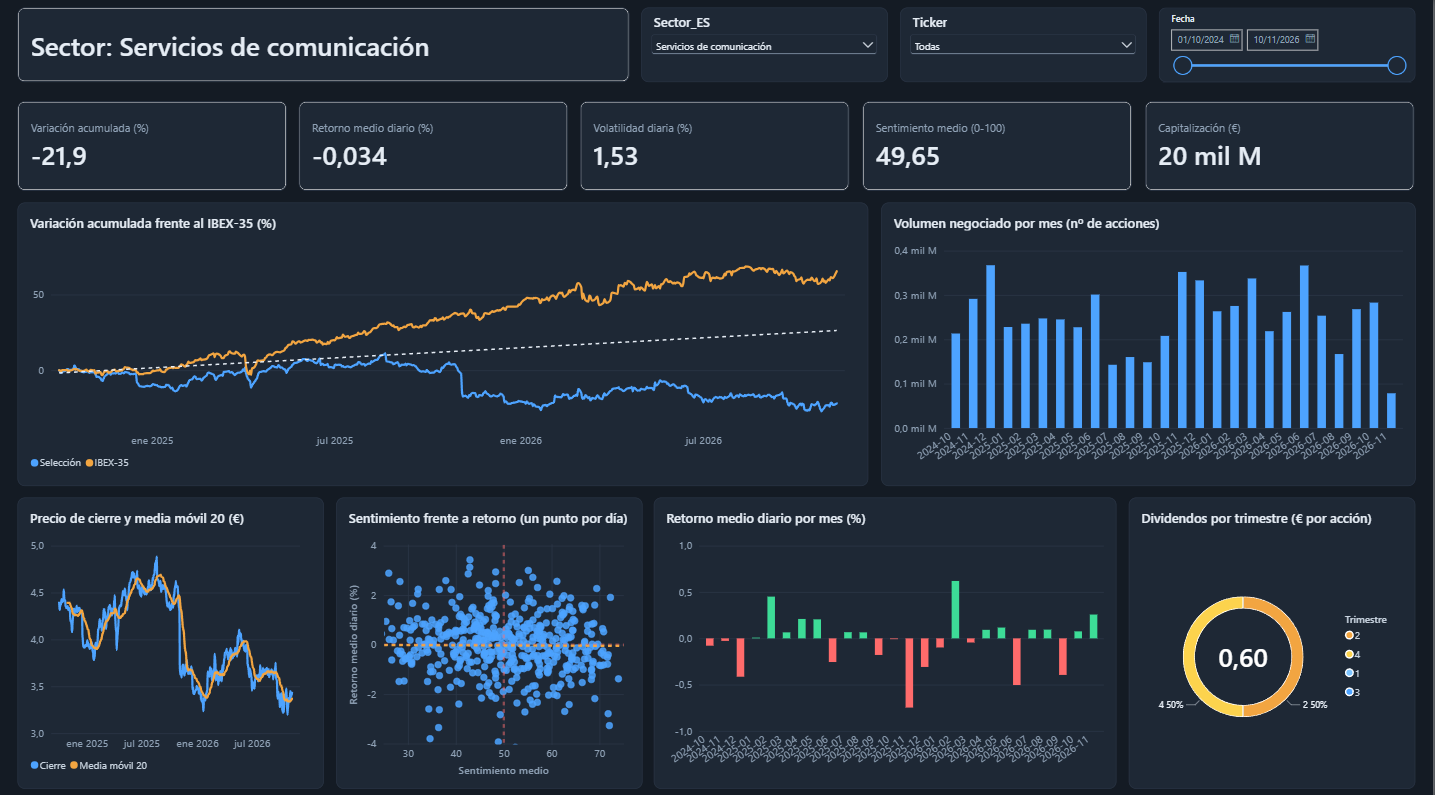

What the dashboard file says about the page in this screenshot:
{"tool":"powerbi","page":{"name":"Dashboard","canvas":[1920,1080],"ordinal":3},"visuals":[{"type":"slicer","fields":{"Values":["Empresa.Sector_ES"]},"box":[753.5,31.4,280.8,68],"z":0},{"type":"slicer","fields":{"Values":["Empresa.Ticker"]},"box":[1055.2,26.2,280.8,80.2],"z":1000},{"type":"slicer","fields":{"Values":["Fecha.Fecha"]},"box":[1360.5,19.2,280.8,95.9],"z":2000},{"type":"cardVisual","fields":{"Data":["Hechos.Variacion Acumulada"]},"box":[36.6,115.1,218,174.4],"z":3000},{"type":"cardVisual","fields":{"Data":["Hechos.Retorno Medio Diario"]},"box":[375,115.1,218,174.4],"z":4000},{"type":"cardVisual","fields":{"Data":["Hechos.Volatilidad Diaria"]},"box":[741.3,115.1,218,174.4],"z":5000},{"type":"cardVisual","fields":{"Data":["Hechos.Sentimiento Medio"]},"box":[1088.4,115.1,218,174.4],"z":6000},{"type":"cardVisual","fields":{"Data":["Hechos.Capitalizacion Total"]},"box":[1447.7,115.1,218,174.4],"z":7000},{"type":"lineChart","fields":{"Category":["Fecha.Fecha"],"Y":["Hechos.Var Acum Seleccion","Hechos.Var Acum IBEX"]},"box":[43.6,314,1058.7,376.7],"z":8000},{"type":"clusteredColumnChart","fields":{"Category":["Fecha.AnioMes"],"Y":["Sum(Hechos.Volume)"]},"box":[1133.7,314,736,376.7],"z":9000},{"type":"lineChart","fields":{"Category":["Fecha.Fecha"],"Y":["Avg(Hechos.Close)","Avg(Hechos.Media_Movil_20)"]},"box":[66.3,711.6,395.9,322.7],"z":10000},{"type":"scatterChart","fields":{"Category":["Fecha.Fecha"],"X":["Hechos.Sentimiento Medio"],"Y":["Hechos.Retorno Medio Diario"]},"box":[462.2,711.6,444.8,322.7],"z":11000},{"type":"clusteredColumnChart","fields":{"Category":["Fecha.AnioMes"],"Y":["Hechos.Retorno Medio Diario"]},"box":[907,711.6,610.5,322.7],"z":12000},{"type":"donutChart","fields":{"Category":["Fecha.Trimestre"],"Y":["Sum(Hechos.Dividends)"]},"box":[1517.4,711.6,385.5,322.7],"z":13000},{"type":"cardVisual","fields":{"Data":["Hechos.Titulo Dashboard"]},"box":[66.3,19.2,556.4,75],"z":13001}]}

Visuals, with their boxes in screenshot pixels (x1, y1, x2, y2), scaled from the page's 1920x1080 canvas onto the 1435x795 screenshot:
slicer - Empresa.Sector_ES: crop(563, 23, 773, 73)
slicer - Empresa.Ticker: crop(789, 19, 999, 78)
slicer - Fecha.Fecha: crop(1017, 14, 1227, 85)
cardVisual - Hechos.Variacion Acumulada: crop(27, 85, 190, 213)
cardVisual - Hechos.Retorno Medio Diario: crop(280, 85, 443, 213)
cardVisual - Hechos.Volatilidad Diaria: crop(554, 85, 717, 213)
cardVisual - Hechos.Sentimiento Medio: crop(813, 85, 976, 213)
cardVisual - Hechos.Capitalizacion Total: crop(1082, 85, 1245, 213)
lineChart - Fecha.Fecha x Hechos.Var Acum Seleccion: crop(33, 231, 824, 508)
clusteredColumnChart - Fecha.AnioMes x Sum(Hechos.Volume): crop(847, 231, 1397, 508)
lineChart - Fecha.Fecha x Avg(Hechos.Close): crop(50, 524, 345, 761)
scatterChart - Fecha.Fecha x Hechos.Sentimiento Medio: crop(345, 524, 678, 761)
clusteredColumnChart - Fecha.AnioMes x Hechos.Retorno Medio Diario: crop(678, 524, 1134, 761)
donutChart - Fecha.Trimestre x Sum(Hechos.Dividends): crop(1134, 524, 1422, 761)
cardVisual - Hechos.Titulo Dashboard: crop(50, 14, 465, 69)
